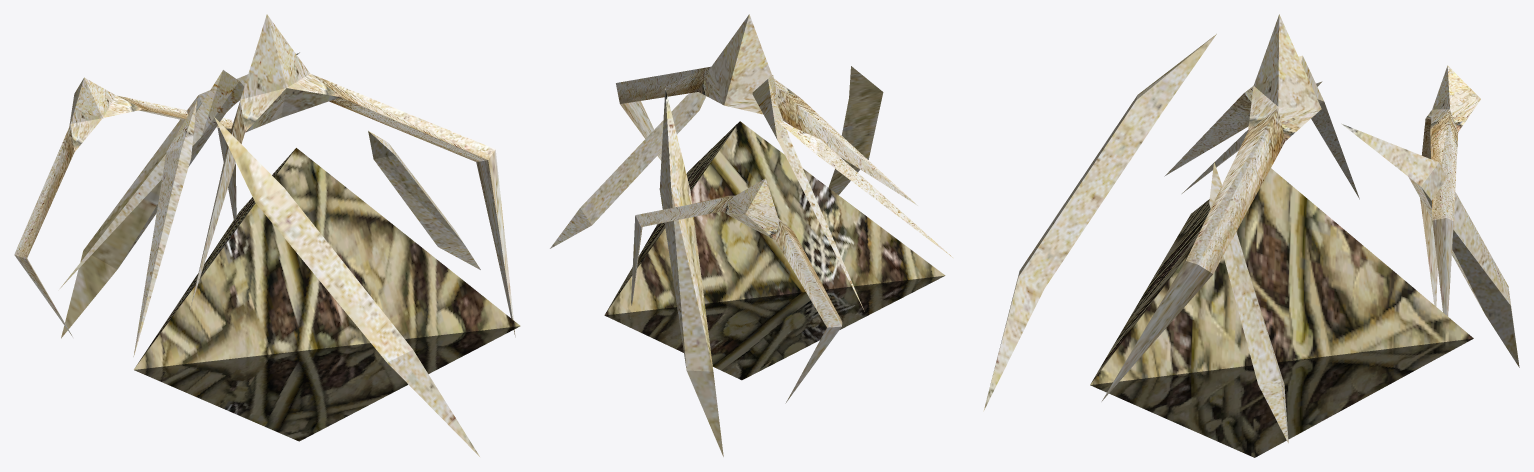
File: poi_all_lair_bones_large_l3.fbx
3 views of the same model, side by side, from view 1: azimuth 30°, elevation 25°; view 2: azimuth 150°, elevation 25°; view 3: azimuth 270°, elevation 25° (orthographic). The views are drawn at different scales.
Visible parts, largest first — view 1: mesh_node; view 2: mesh_node; view 3: mesh_node.
Part boxes in pixels (x1,y1,x2,y2): mesh_node: [14, 14, 520, 456]; mesh_node: [550, 14, 952, 456]; mesh_node: [983, 14, 1519, 457].
Bounding box in the file's own units: 5.2 × 5.25 × 5.88.
